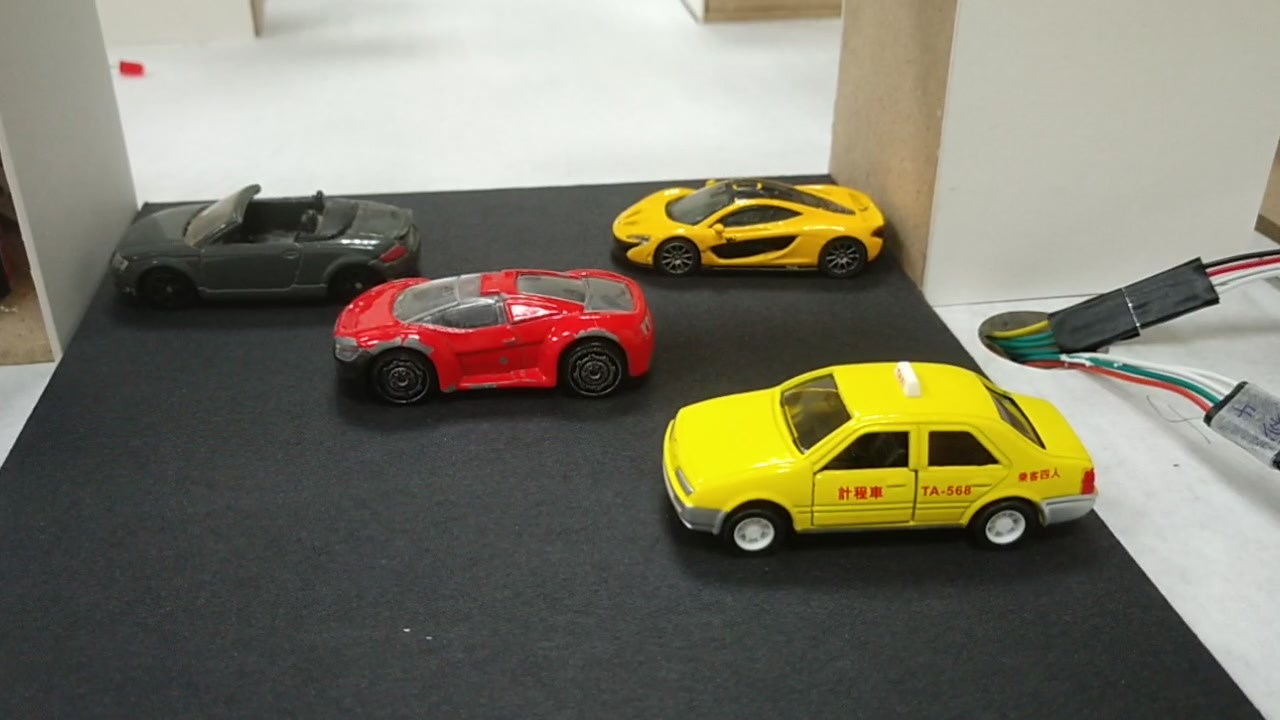car: (670, 365, 1100, 542), (335, 276, 655, 392), (124, 206, 420, 286), (620, 190, 888, 267)
